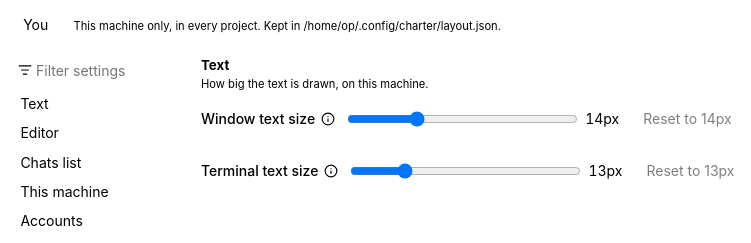
Test case: filtering the Settings tab by name › narrows the nav and the settings to a setting's label, whatever its case
Type "TERMINAL TEXT" into the search field labelled "Filter settings" at (96, 70), box [12, 56, 180, 84]
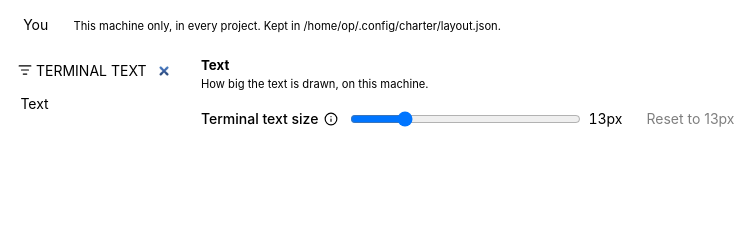
Expected: the slider labelled "Terminal text size" is shown, [350, 111, 581, 127]
Expected: the label "Window text size" is gone
